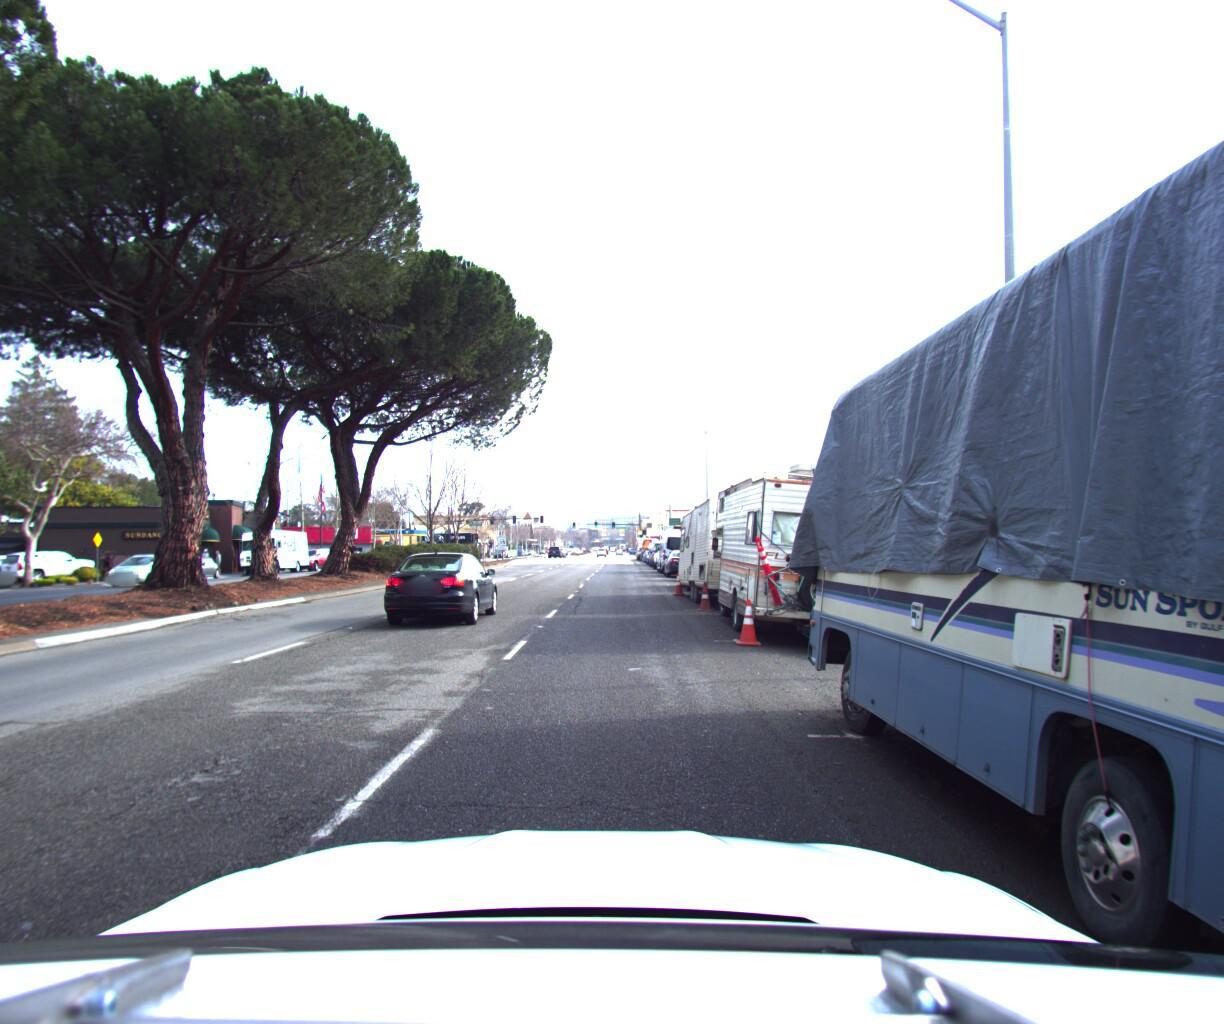car: (377, 541, 505, 623), (0, 541, 107, 576), (103, 545, 188, 577), (655, 519, 697, 569), (286, 539, 343, 565), (0, 550, 43, 580), (662, 541, 702, 571)
other_vehicle: (783, 0, 1224, 1024), (706, 445, 955, 659), (675, 484, 817, 611)
truck: (233, 521, 313, 570)
